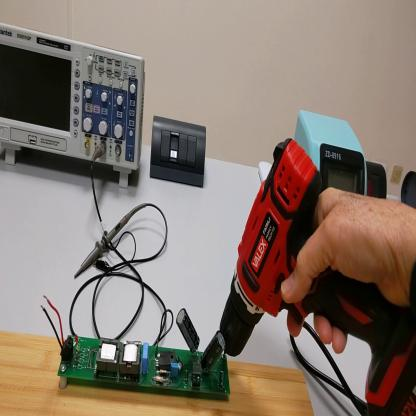electric screwdriver: (222, 137, 416, 416)
hand: (282, 185, 410, 347)
high voltage board: (41, 295, 231, 397)
oscilloscope: (1, 21, 146, 190)
oscilloscope probe tip: (76, 209, 138, 279)
socket: (367, 164, 391, 200), (402, 173, 415, 208)
welder station: (295, 110, 367, 195)
working area: (1, 331, 313, 416)
